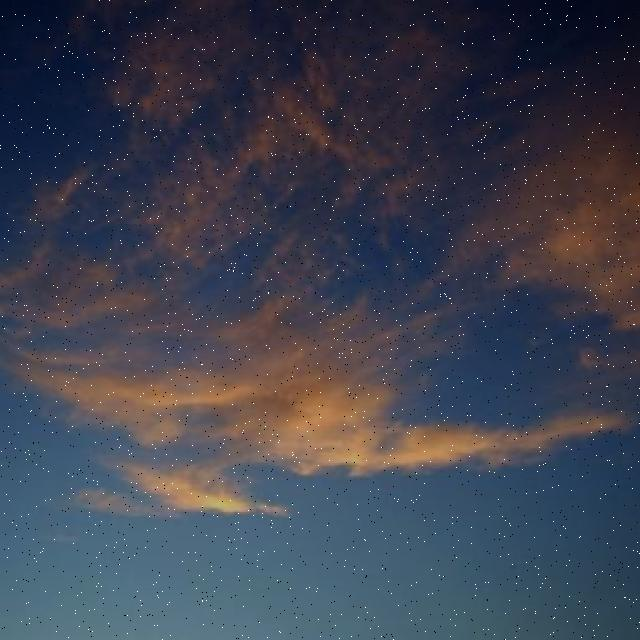Cc: (1, 1, 640, 491)
